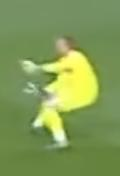goalkeeper: (13, 24, 106, 158)
